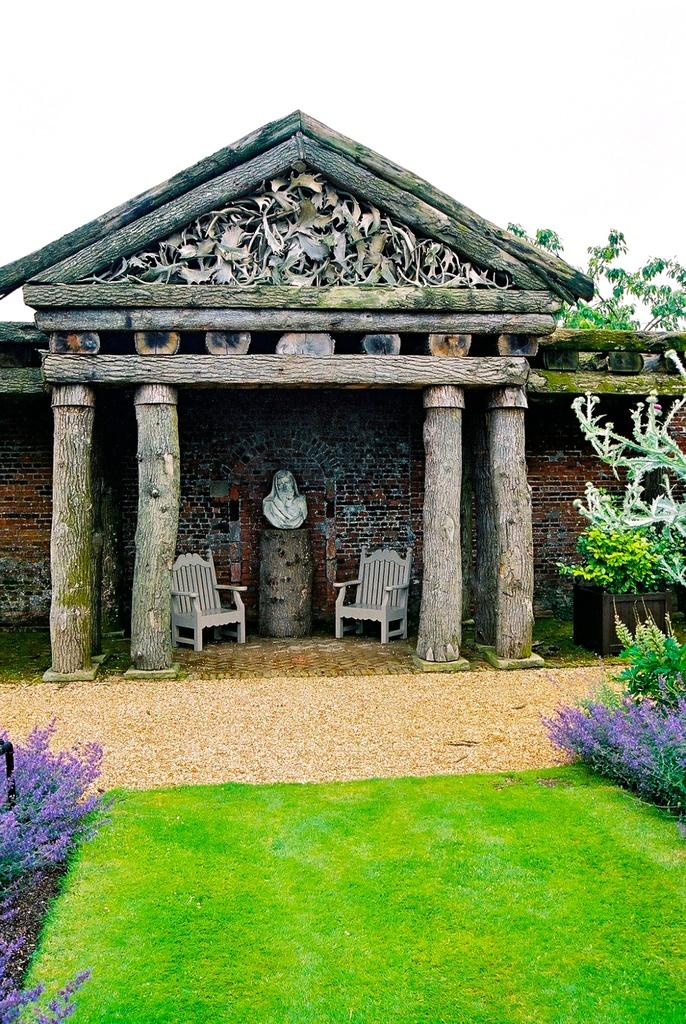Chair: (325, 540, 416, 646), (159, 550, 235, 649)
